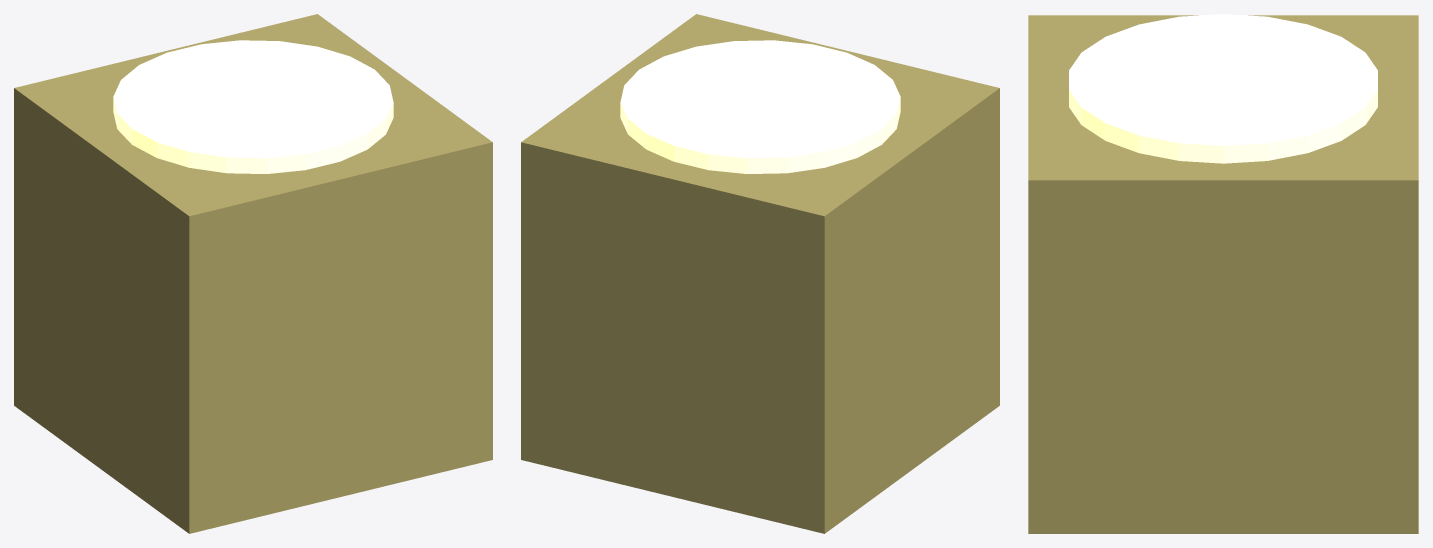
File: Goal_Full.glb
The picture shows the model from 3 angles, left to right: view 1: azimuth 30°, elevation 25°; view 2: azimuth 150°, elevation 25°; view 3: azimuth 270°, elevation 25°; orthographic projection. The views are drawn at different scales.
Parts seen in each view (by area): view 1: Goal_Full_body, glow_disc; view 2: Goal_Full_body, glow_disc; view 3: Goal_Full_body, glow_disc.
Part boxes in pixels (x1,y1,x2,y2): Goal_Full_body: (14,14,492,533); glow_disc: (113,40,393,173); Goal_Full_body: (521,14,999,533); glow_disc: (620,40,900,173); Goal_Full_body: (1028,15,1418,533); glow_disc: (1069,14,1377,163).
Size of the model in its own units: 1 by 1.05 by 1.
